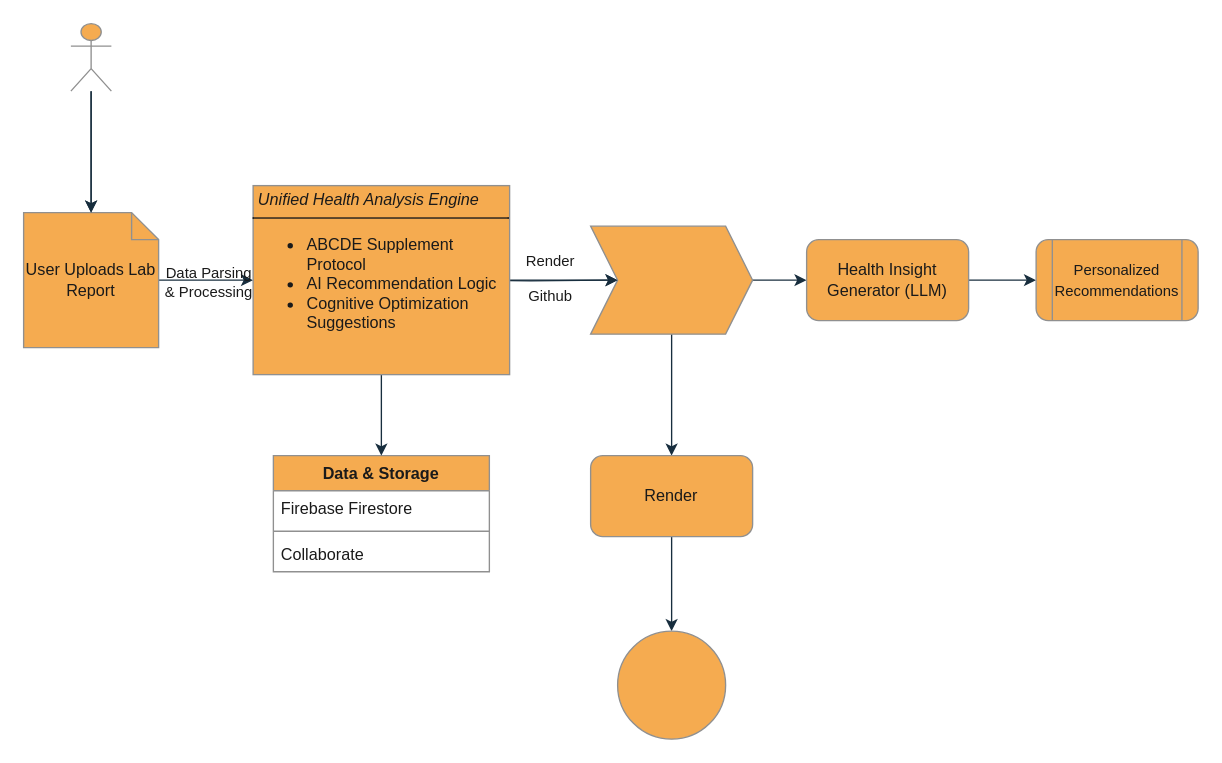
Some shapes in this 1222 by 763 pixel diagram are drawn without their labels. Each missing label, with the box of its shape:
Actor: (70, 22, 111, 91)
Design Brand: (616, 630, 726, 739)
Frontend: (589, 225, 753, 334)
